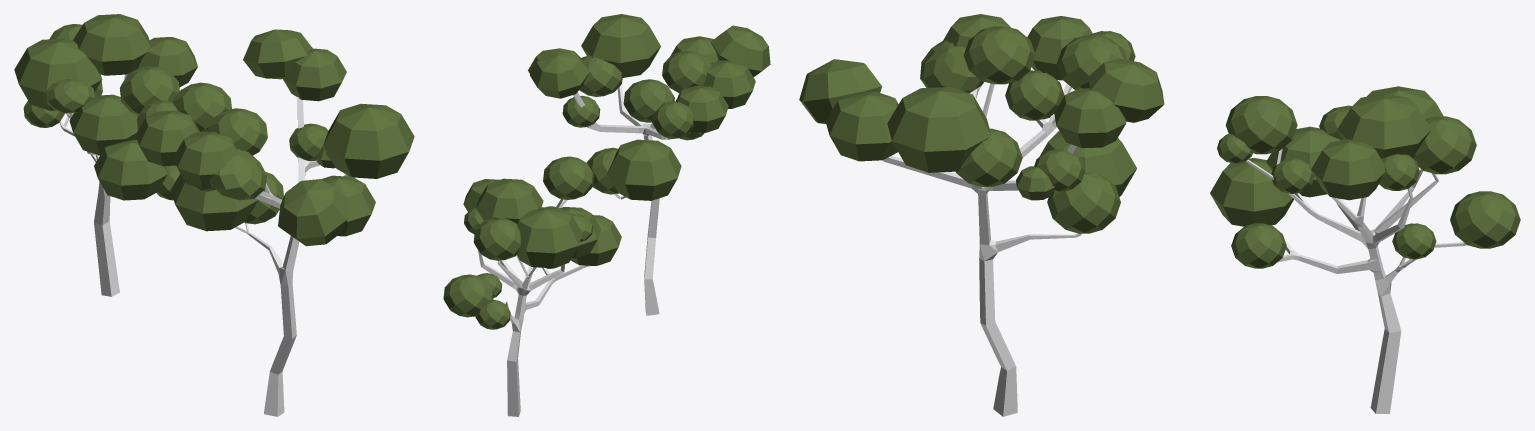
The model's file is gum tree AUS.fbx.
The picture shows the model from 3 angles, left to right: view 1: azimuth 30°, elevation 25°; view 2: azimuth 150°, elevation 25°; view 3: azimuth 270°, elevation 25°; orthographic projection. The views are drawn at different scales.
Parts seen in each view (by area): view 1: Sphere.002, Sphere.001, Sphere.003, Sphere, Cube.001, Cube; view 2: Sphere.002, Sphere.001, Sphere.003, Sphere, Cube, Cube.001; view 3: Sphere.002, Sphere.003, Sphere, Sphere.001, Cube, Cube.001.
Boxes of the visible parts, left/top/right/bottom form: Sphere.002: left=135, top=29, right=414, bottom=246; Sphere.001: left=14, top=14, right=197, bottom=200; Sphere.003: left=137, top=82, right=331, bottom=224; Sphere: left=23, top=24, right=180, bottom=200; Cube.001: left=235, top=97, right=349, bottom=416; Cube: left=59, top=74, right=127, bottom=296; Sphere.002: left=528, top=14, right=770, bottom=200; Sphere.001: left=463, top=178, right=621, bottom=268; Sphere.003: left=562, top=50, right=711, bottom=194; Sphere: left=443, top=156, right=594, bottom=329; Cube: left=474, top=199, right=602, bottom=416; Cube.001: left=573, top=84, right=679, bottom=315; Sphere.002: left=799, top=14, right=1164, bottom=200; Sphere.003: left=920, top=26, right=1135, bottom=233; Sphere: left=1217, top=96, right=1520, bottom=268; Sphere.001: left=1210, top=86, right=1443, bottom=226; Cube: left=1245, top=148, right=1466, bottom=413; Cube.001: left=882, top=83, right=1081, bottom=416.
Size of the model in its own units: 2558 by 3739 by 6448.
